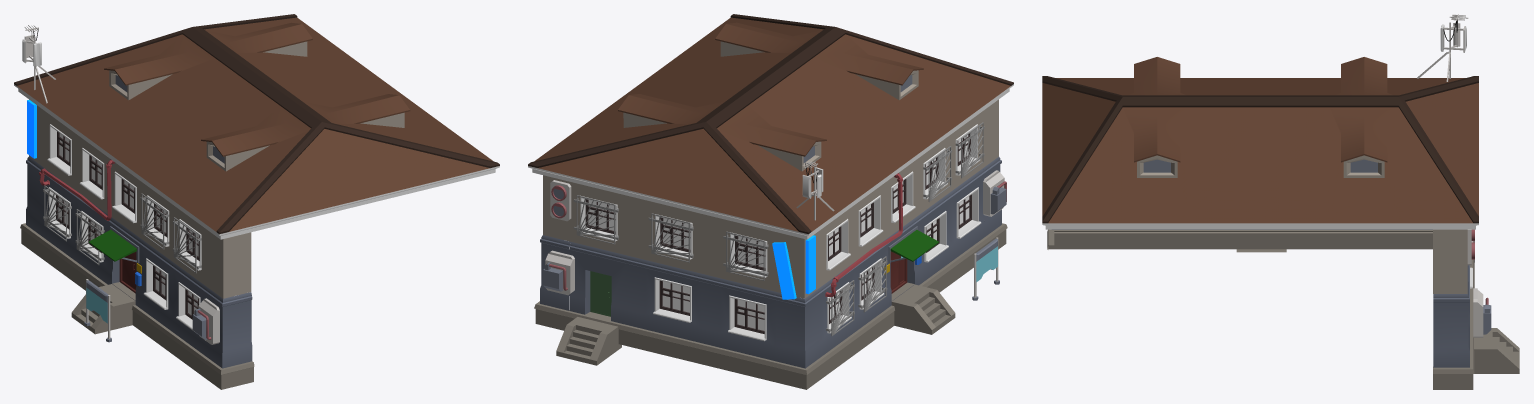
Rendered from PoliceStation.fbx.
3 renders of one model, left to right at view 1: azimuth 30°, elevation 25°; view 2: azimuth 150°, elevation 25°; view 3: azimuth 270°, elevation 25°, orthographic. The views are drawn at different scales.
Visible parts, largest first — view 1: PoliceStation, Board.001, antena.001, policeSign.001; view 2: PoliceStation, policeSign.002, Board.001, antena.001, policeSign.001; view 3: PoliceStation, antena.001.
Part boxes in pixels (left/top/right/bottom): PoliceStation: left=14, top=14, right=499, bottom=389; Board.001: left=84, top=279, right=111, bottom=342; antena.001: left=22, top=25, right=55, bottom=103; policeSign.001: left=27, top=99, right=36, bottom=158; PoliceStation: left=528, top=14, right=1013, bottom=389; policeSign.002: left=772, top=242, right=796, bottom=299; Board.001: left=972, top=237, right=999, bottom=300; antena.001: left=796, top=161, right=834, bottom=220; policeSign.001: left=805, top=235, right=815, bottom=294; PoliceStation: left=1042, top=57, right=1519, bottom=389; antena.001: left=1417, top=14, right=1468, bottom=81.
Size of the model in its own units: 1764 by 1152 by 2078.
